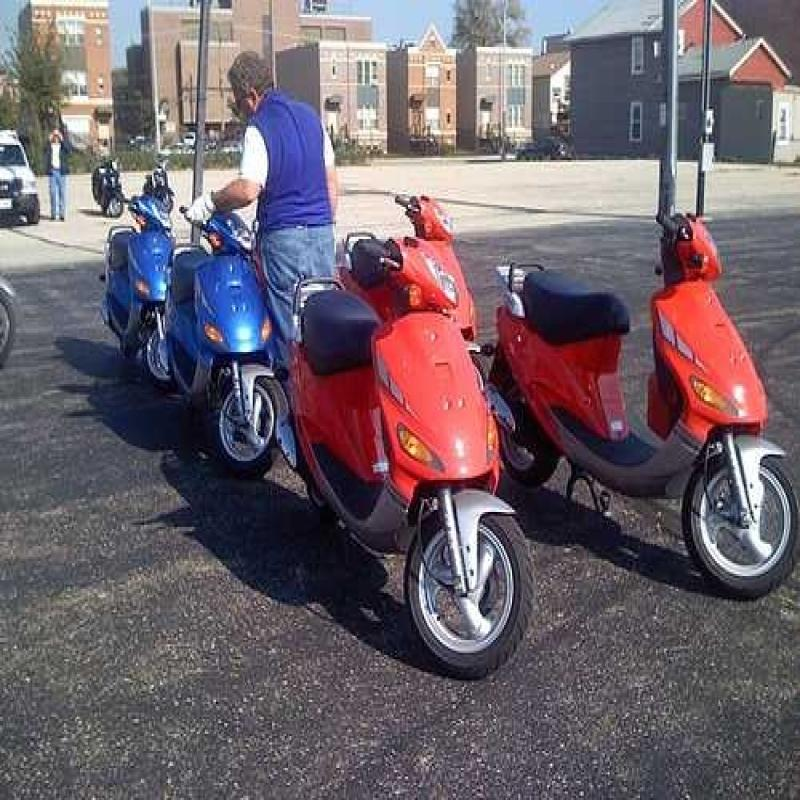bike: (509, 203, 800, 578), (302, 216, 542, 665), (187, 194, 306, 461), (97, 175, 190, 393)
